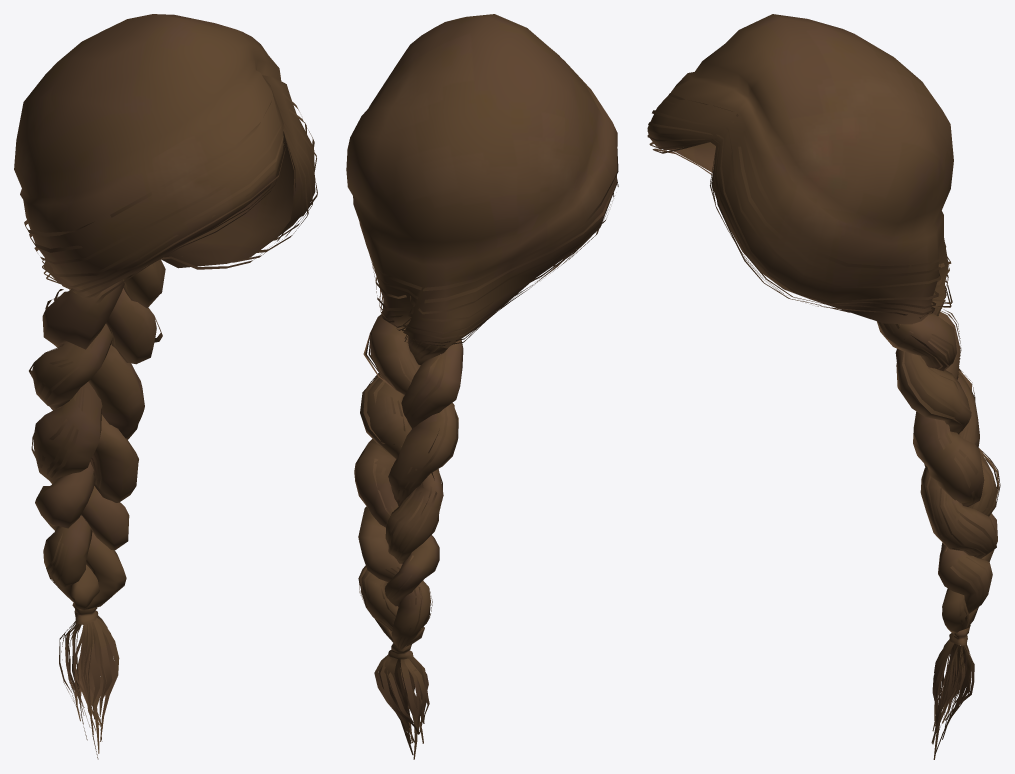
Rendered from hair_knotless.glb.
3 views of the same model, side by side, from view 1: azimuth 30°, elevation 25°; view 2: azimuth 150°, elevation 25°; view 3: azimuth 270°, elevation 25° (orthographic). The views are drawn at different scales.
Parts seen in each view (by area): view 1: hair_knotless; view 2: hair_knotless; view 3: hair_knotless.
Boxes of the visible parts, <box> form: hair_knotless: <box>14,14,317,759</box>; hair_knotless: <box>346,14,618,759</box>; hair_knotless: <box>647,14,1000,759</box>.
Bounding box in the file's own units: 0.2094 × 0.6201 × 0.2681.
Materials: 1 (1 with a texture image).
